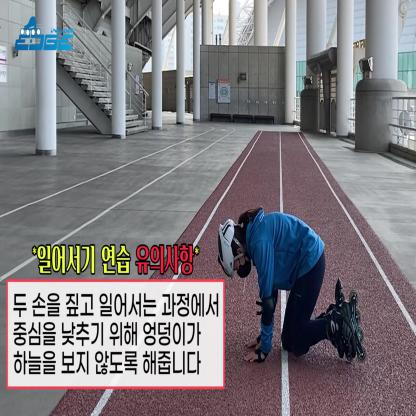Fall_Down: (222, 214, 358, 364)
